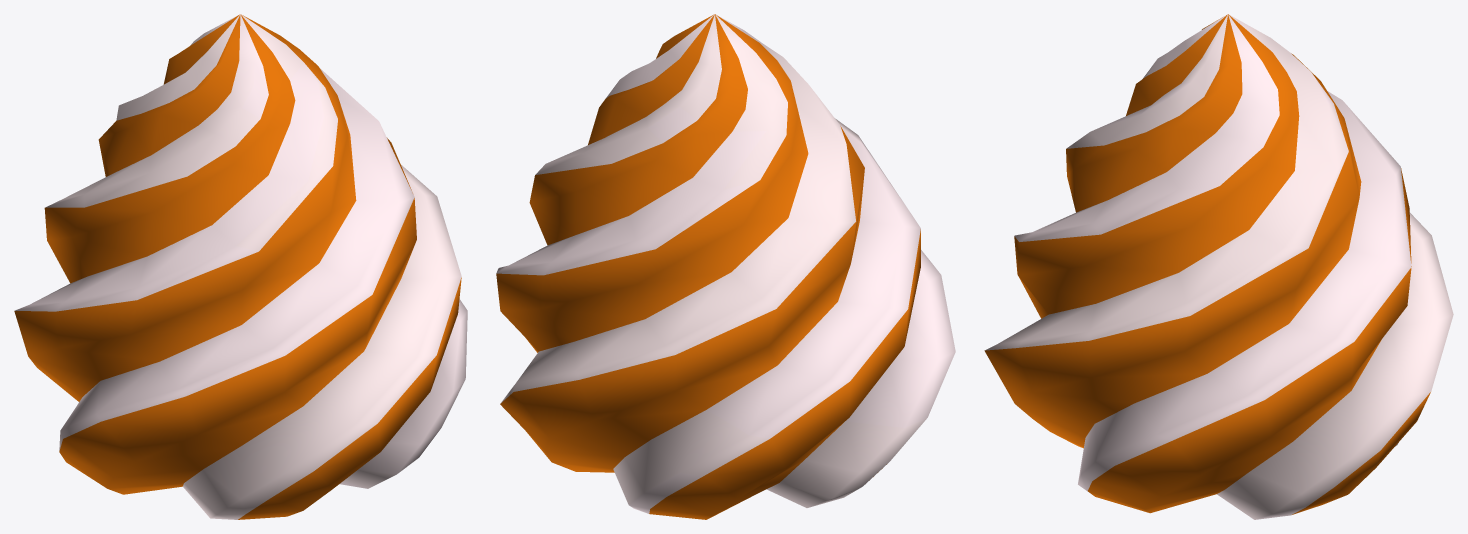
File: Ice Cream Spiral C White Brown.fbx
3 views of the same model, side by side, from view 1: azimuth 30°, elevation 25°; view 2: azimuth 150°, elevation 25°; view 3: azimuth 270°, elevation 25° (orthographic).
Parts seen in each view (by area): view 1: Ice Cream Spiral C White Brown; view 2: Ice Cream Spiral C White Brown; view 3: Ice Cream Spiral C White Brown.
Part boxes in pixels (<box>): Ice Cream Spiral C White Brown: <box>14,14,467,519</box>; Ice Cream Spiral C White Brown: <box>496,14,955,519</box>; Ice Cream Spiral C White Brown: <box>984,14,1453,519</box>.
Bounding box in the file's own units: 0.4215 × 0.4617 × 0.4308.
